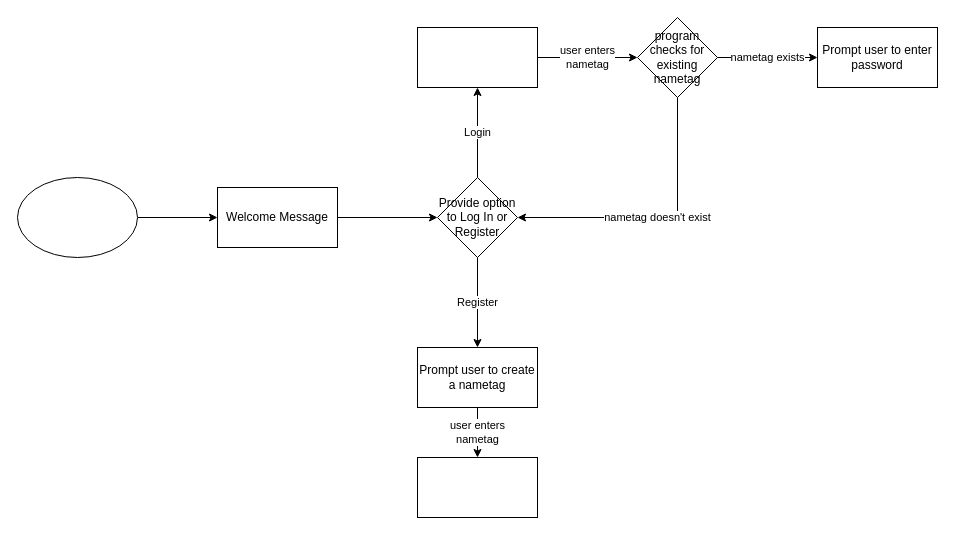
The diagram is 955 pixels wide and 535 high, and some of its shapes have lost their labels. The centre of each missing label's shape, as x and y in pixels:
"Generate a password for user and ask them to save it" belongs at point (477, 487).
"Program Start" belongs at point (77, 217).
"Request User to enter nametag" belongs at point (477, 57).
